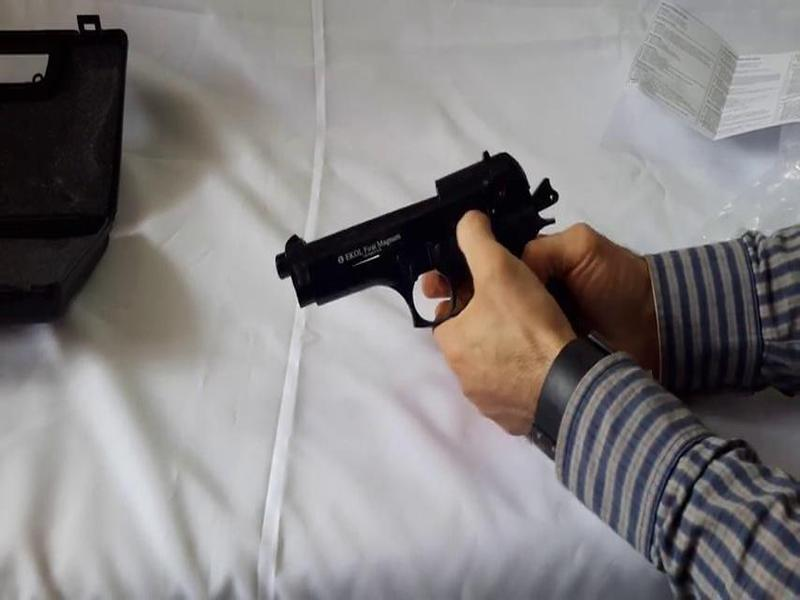Pistola: (274, 124, 617, 354)
